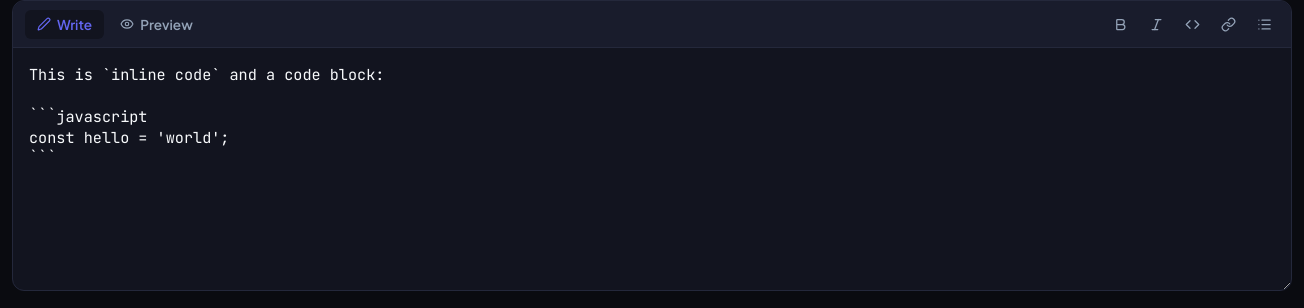
Scenario: MarkdownEditor Component › renders custom code elements in preview mode
Click the button "Preview": (156, 24) left=108, top=10, right=205, bottom=38
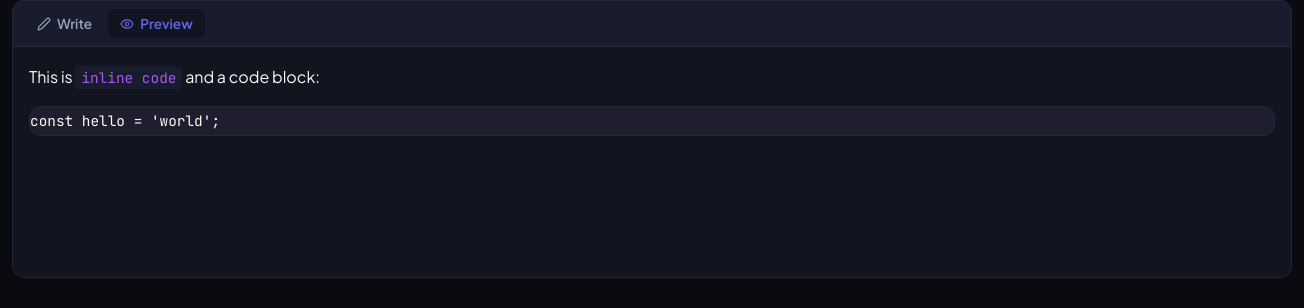
Now the text "inline code" is shown, box left=75, top=66, right=182, bottom=89
Now the element with class "language-javascript" reads "const hello = 'world';", box left=30, top=112, right=220, bottom=130
